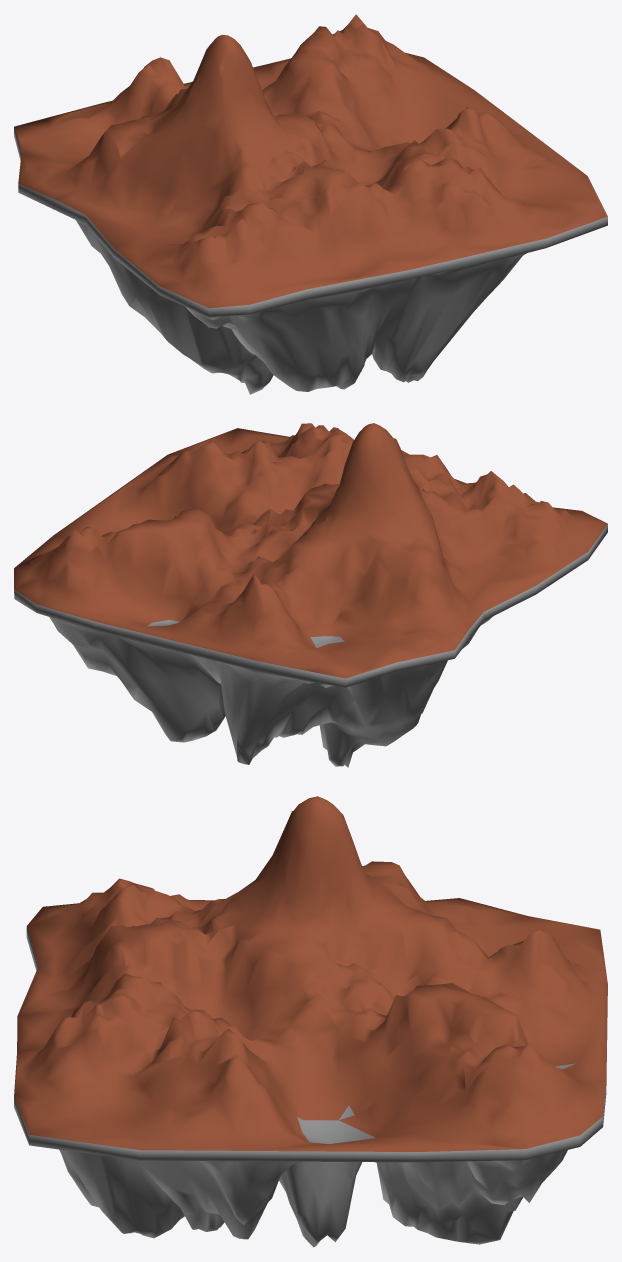
The model's file is island 01.fbx.
The picture shows the model from 3 angles, top to bottom: view 1: azimuth 30°, elevation 25°; view 2: azimuth 150°, elevation 25°; view 3: azimuth 270°, elevation 25°; orthographic projection. The views are drawn at different scales.
Visible parts, largest first — view 1: Landscape; view 2: Landscape; view 3: Landscape.
Part boxes in pixels (x1,y1,x2,y2): Landscape: (14,14,607,394); Landscape: (14,423,607,767); Landscape: (14,796,607,1247).
Bounding box in the file's own units: 1.9 × 1.51 × 1.87.
